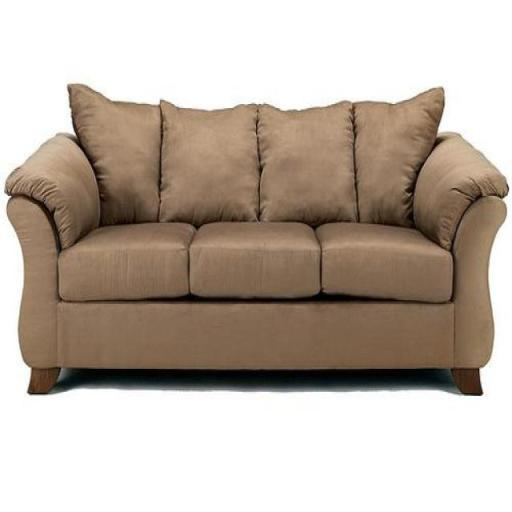sofa: (5, 59, 512, 404)
